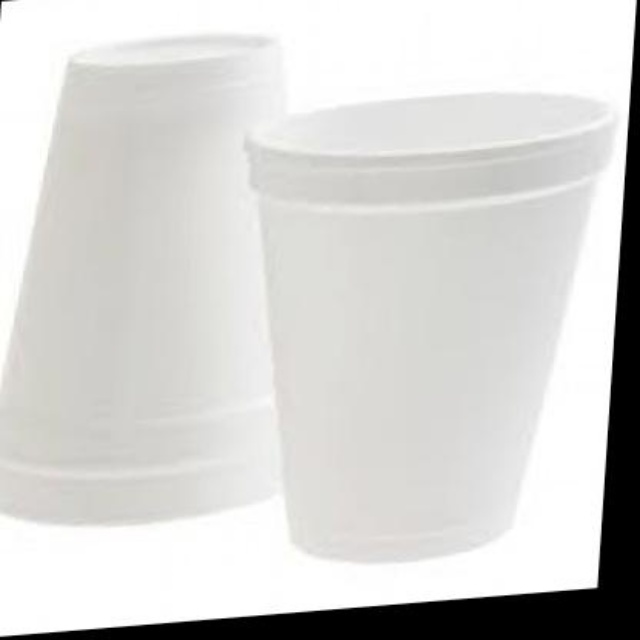trash: (249, 92, 614, 558), (0, 35, 275, 522)
